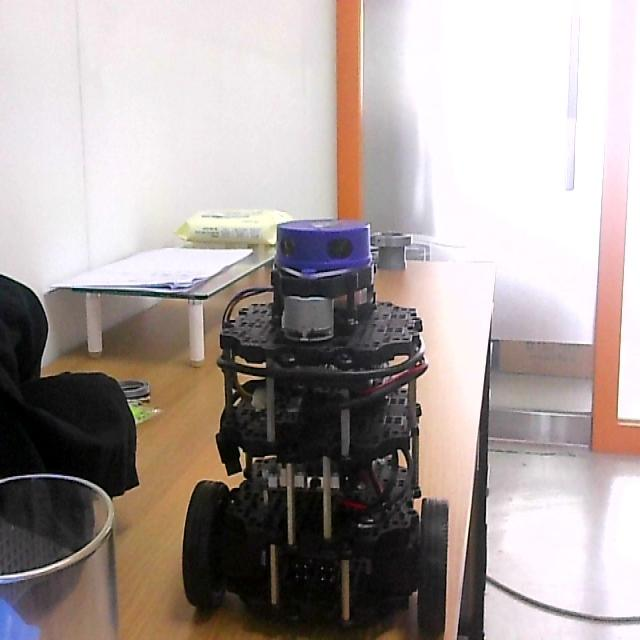turtle: (183, 217, 449, 640)
